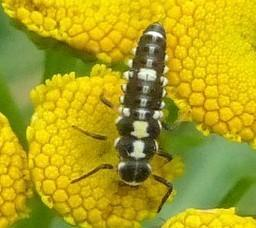ladybug: (70, 21, 176, 214)
